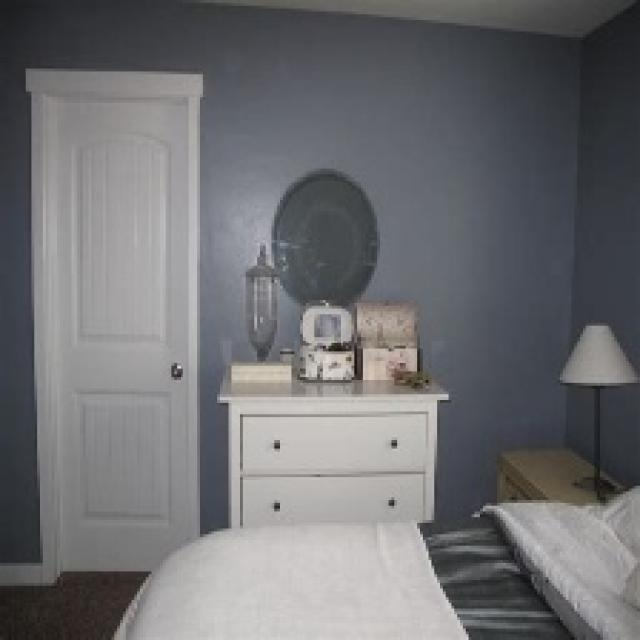Bed: (103, 477, 637, 637)
